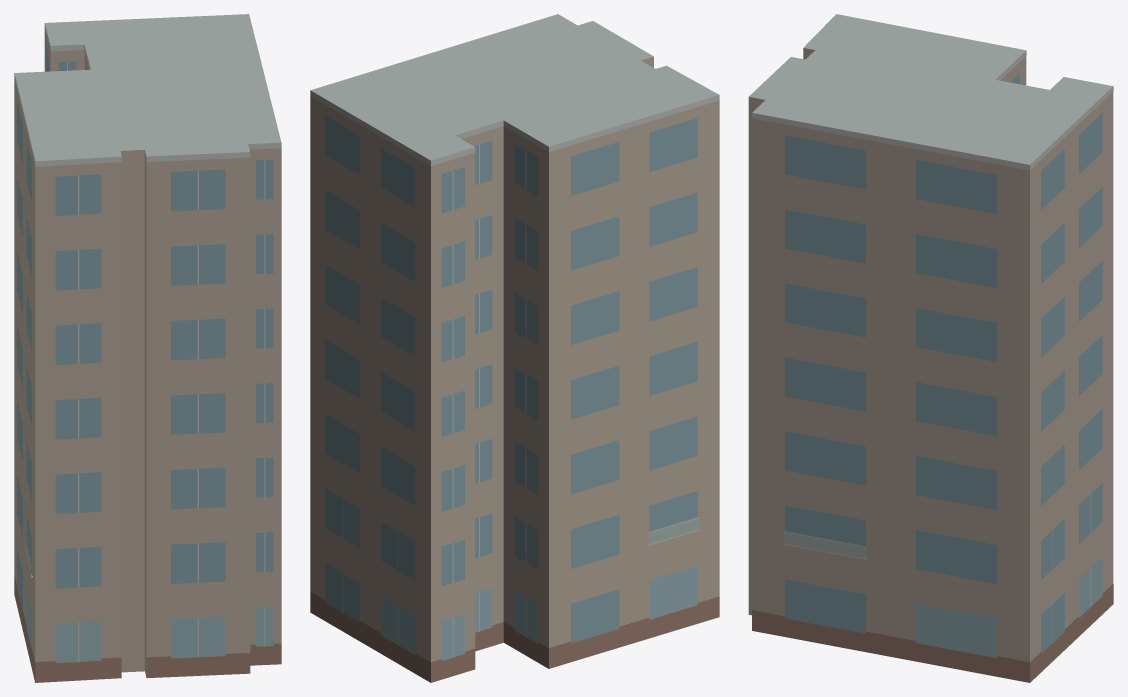
File: survey-upis-33002635.glb
3 views of the same model, side by side, from view 1: azimuth 30°, elevation 25°; view 2: azimuth 150°, elevation 25°; view 3: azimuth 270°, elevation 25° (orthographic).
Visible parts, largest first — view 1: survey-upis-33002635.tmp; view 2: survey-upis-33002635.tmp; view 3: survey-upis-33002635.tmp.
Part boxes in pixels (x1=…): survey-upis-33002635.tmp: x1=14, y1=14, x2=281, y2=682; survey-upis-33002635.tmp: x1=310, y1=14, x2=719, y2=682; survey-upis-33002635.tmp: x1=748, y1=14, x2=1113, y2=682.
Bounding box in the file's own units: 14.44 × 23.1 × 14.75.
